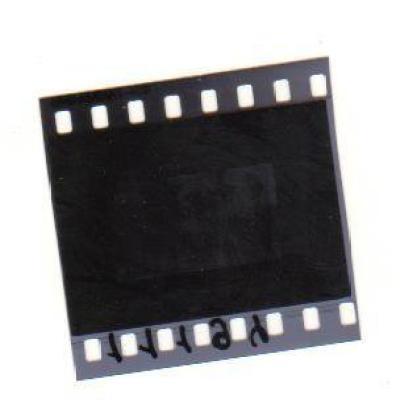photos_negatives: (52, 132, 328, 303)
